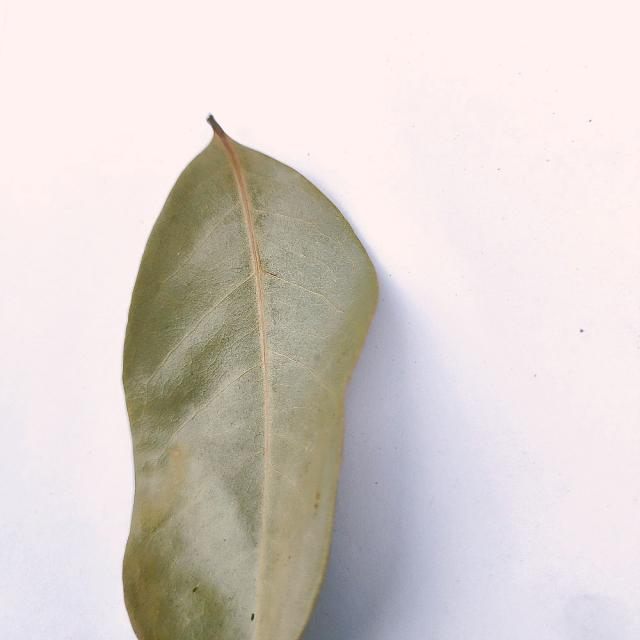Dry_Leaf-Lychee: (121, 116, 380, 639)
